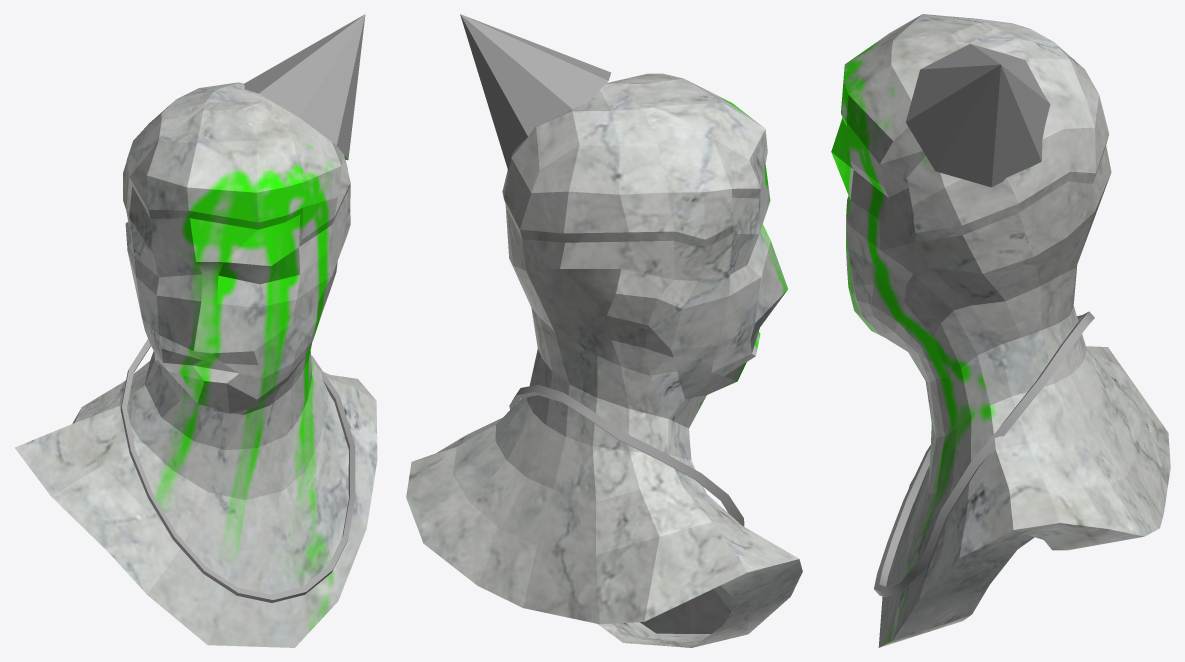
File: Bust_1_Normal.fbx
3 renders of one model, left to right at view 1: azimuth 30°, elevation 25°; view 2: azimuth 150°, elevation 25°; view 3: azimuth 270°, elevation 25°, orthographic. The views are drawn at different scales.
Parts seen in each view (by area): view 1: polySurface1, pCone1, pPipe1; view 2: polySurface1, pCone1, pPipe1; view 3: polySurface1, pCone1, pPipe1.
Boxes of the visible parts, box(x1,y1,x2,y2) form: polySurface1: box(15, 82, 377, 647); pCone1: box(243, 14, 365, 160); pPipe1: box(120, 339, 355, 602); polySurface1: box(406, 73, 802, 647); pCone1: box(460, 14, 611, 171); pPipe1: box(509, 384, 744, 526); polySurface1: box(831, 14, 1170, 647); pCone1: box(905, 43, 1050, 187); pPipe1: box(874, 311, 1094, 597).
Bounding box in the file's own units: 144 × 237 × 112.
